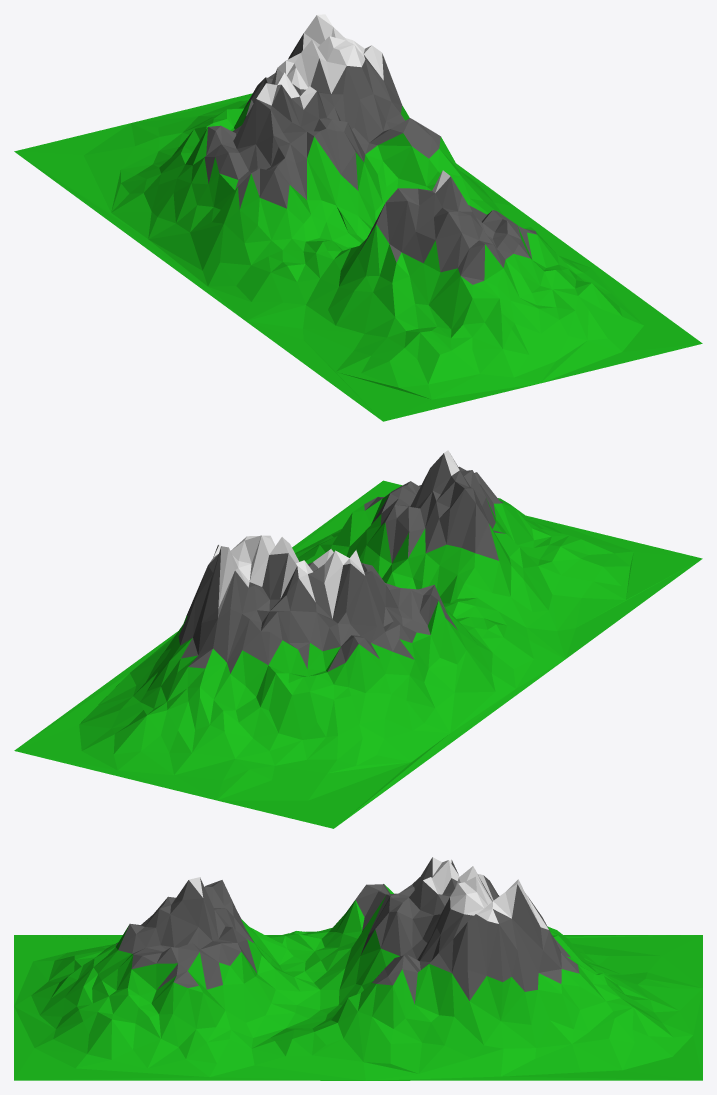
File: gory2.fbx
3 views of the same model, one above another, from view 1: azimuth 30°, elevation 25°; view 2: azimuth 150°, elevation 25°; view 3: azimuth 270°, elevation 25° (orthographic). The views are drawn at different scales.
Parts seen in each view (by area): view 1: Landscape; view 2: Landscape; view 3: Landscape.
Boxes of the visible parts, box(x1,y1,x2,y2) form: Landscape: box(14, 14, 702, 421); Landscape: box(14, 450, 702, 828); Landscape: box(14, 857, 702, 1080).
Size of the model in its own units: 200 by 95.53 by 400.
